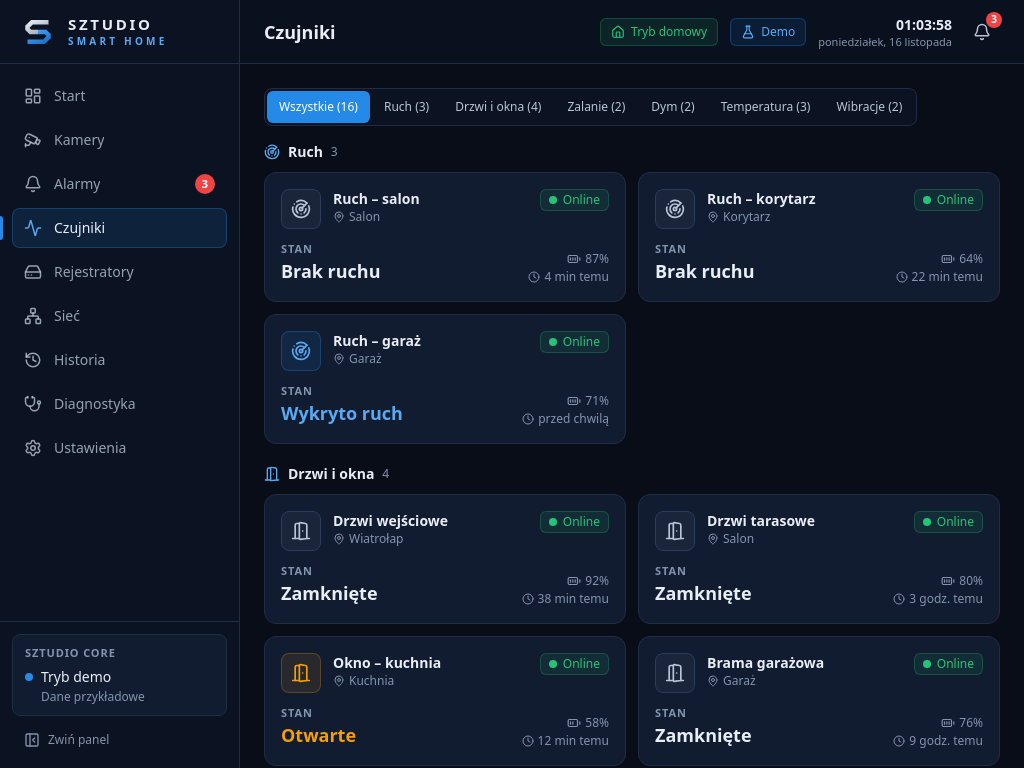
Test: czujniki, sieć, historia › filtruje czujniki według kategorii
Click the button "Zalanie (2)" at (596, 107), box [555,91,637,123]
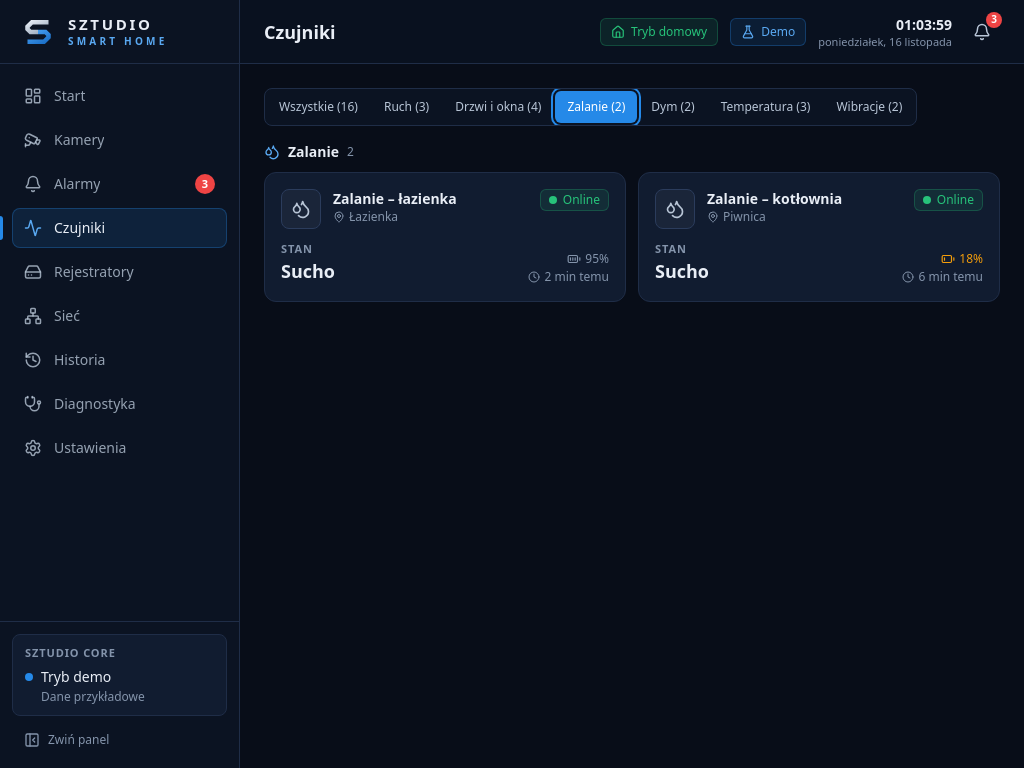
Check: the element showing "Zalanie – łazienka Łazienka Online Stan Sucho 95% 2 min temu" is shown, box [264,172,626,302]
